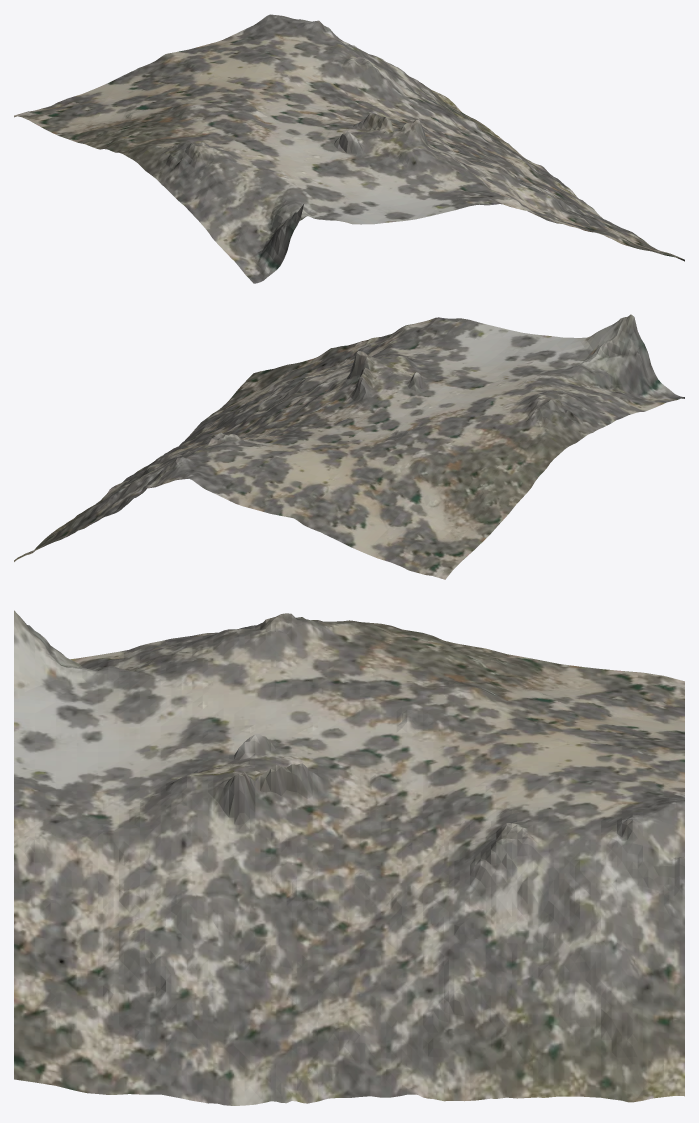
3 renders of one model, top to bottom at view 1: azimuth 30°, elevation 25°; view 2: azimuth 150°, elevation 25°; view 3: azimuth 270°, elevation 25°, orthographic. The views are drawn at different scales.
Size of the model in its own units: 250 by 95.19 by 241.
1 material, 1 textured.
